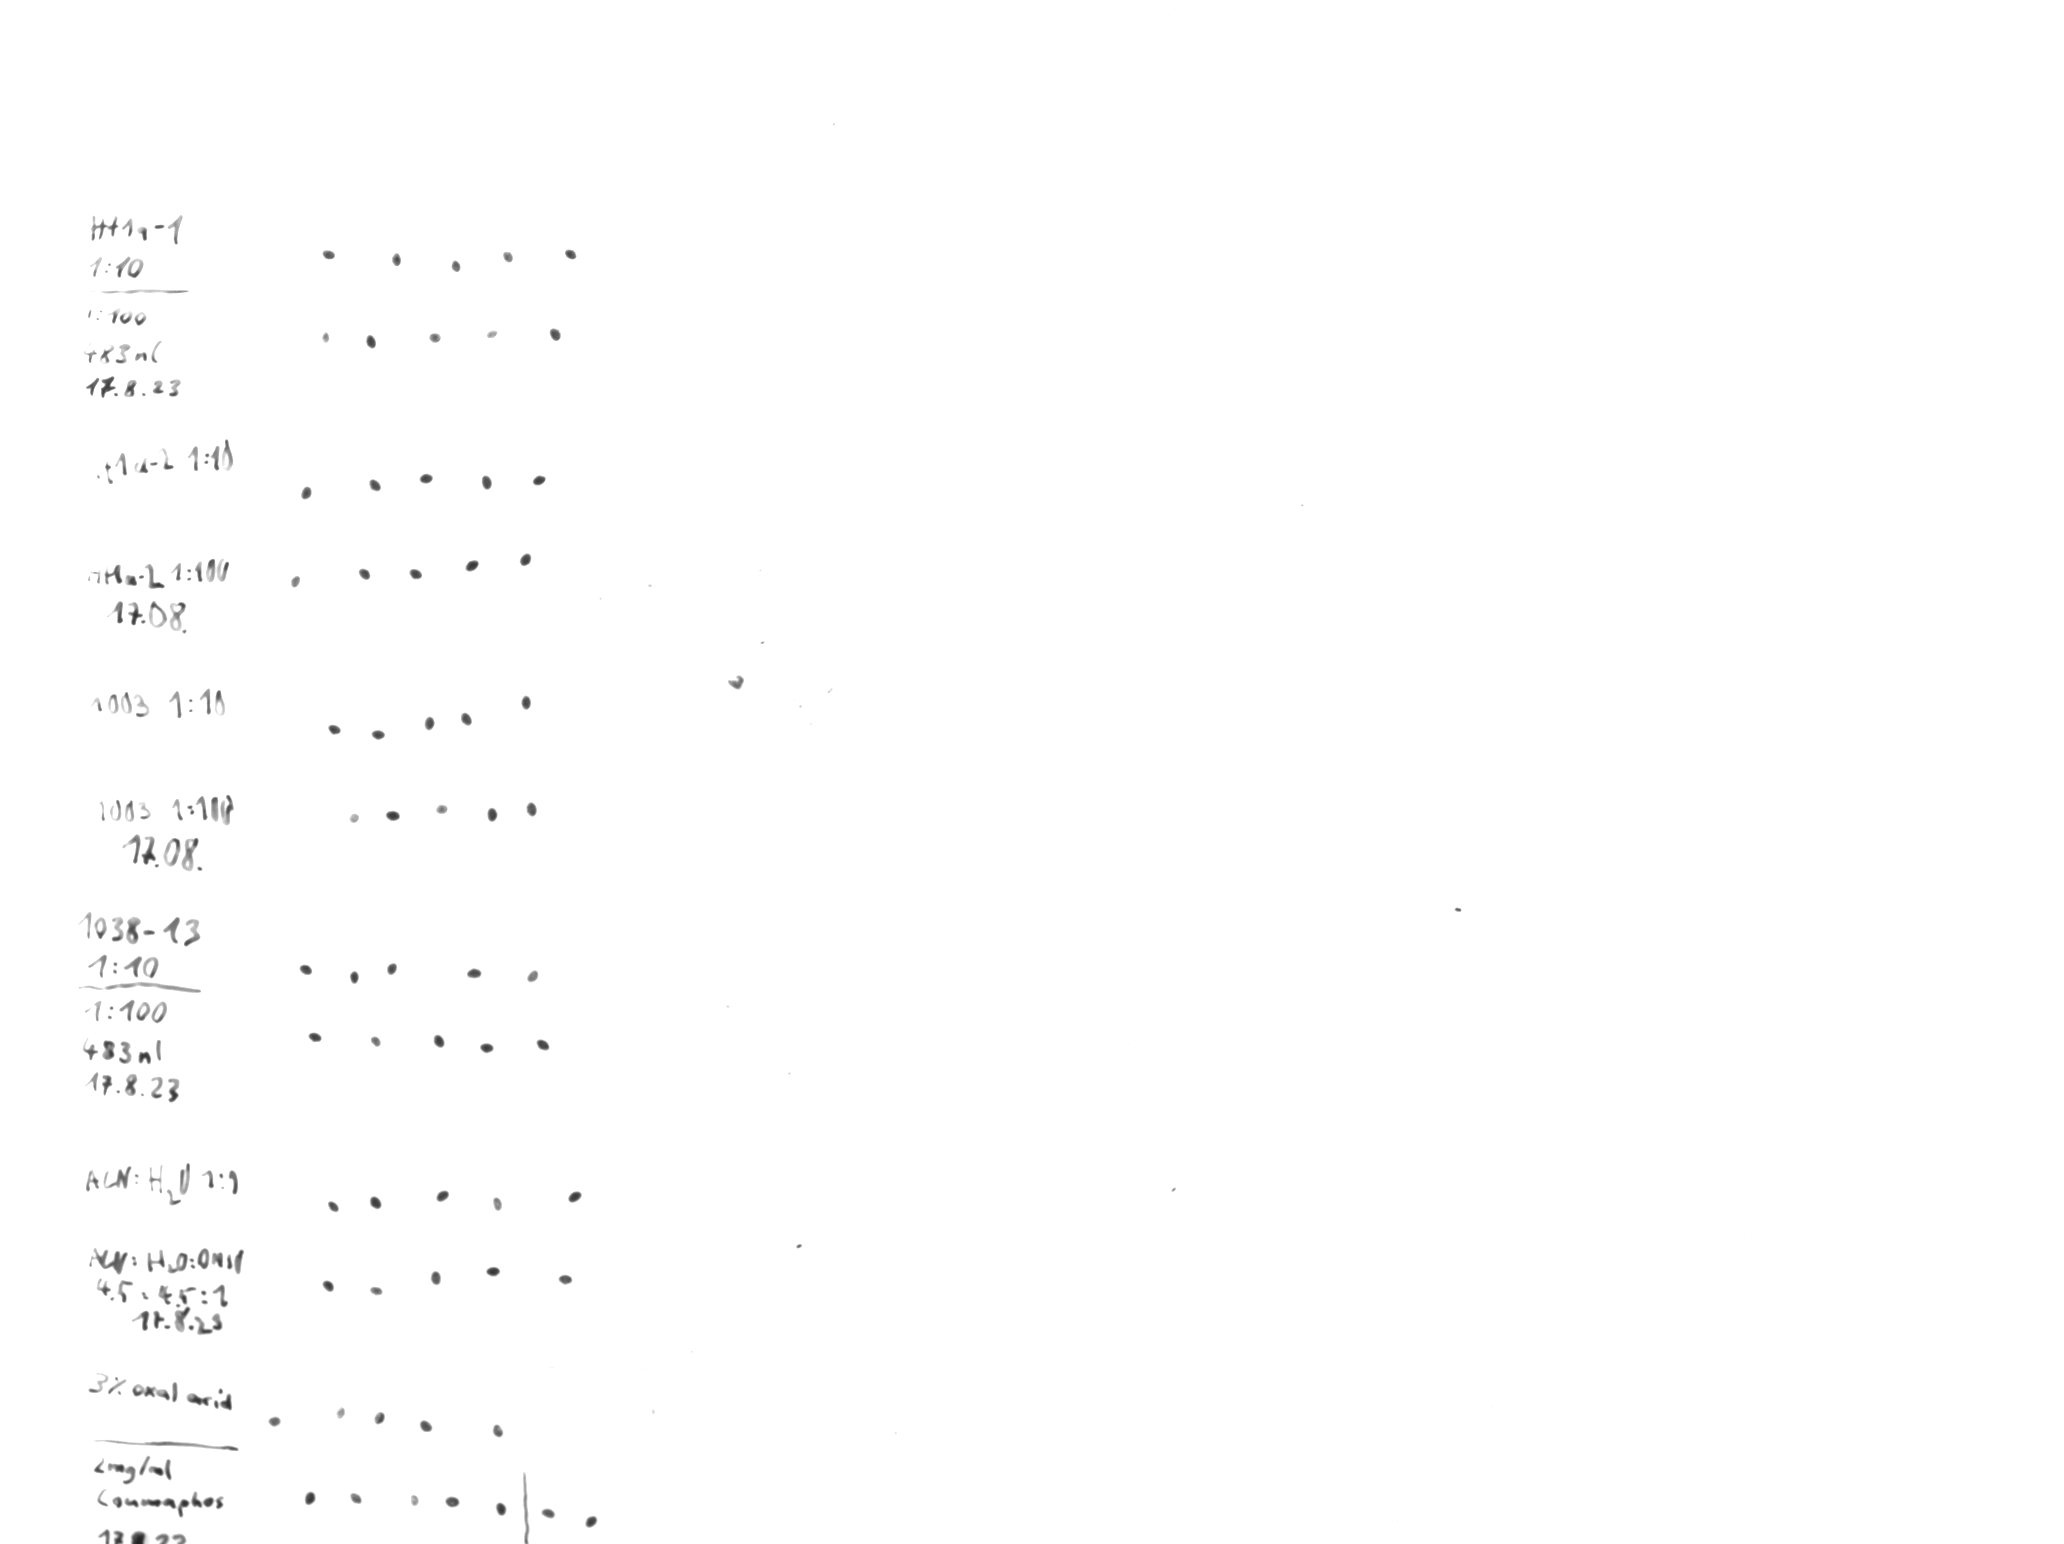varroa: (462, 558, 480, 573), (457, 712, 473, 727), (519, 550, 532, 568), (524, 800, 537, 817), (443, 1495, 460, 1508), (563, 247, 577, 261), (548, 326, 563, 341), (435, 1187, 449, 1202), (567, 1189, 582, 1203), (584, 1513, 598, 1528), (365, 332, 378, 349), (298, 483, 311, 500), (480, 474, 493, 490), (297, 963, 313, 976), (464, 967, 482, 978), (501, 250, 516, 263), (366, 478, 381, 491), (326, 722, 340, 735), (423, 715, 436, 730), (519, 694, 532, 709), (525, 968, 538, 983), (418, 1419, 433, 1432), (491, 1424, 504, 1439), (349, 1490, 362, 1505), (391, 251, 402, 268), (530, 474, 546, 485), (407, 568, 423, 579), (478, 1043, 495, 1054), (417, 474, 435, 483), (483, 1267, 501, 1276), (449, 259, 462, 272), (384, 962, 397, 975), (326, 1200, 339, 1213), (321, 1280, 334, 1293), (268, 1414, 280, 1427), (357, 569, 371, 581), (384, 809, 399, 821), (349, 971, 360, 986), (433, 1033, 444, 1048), (535, 1040, 550, 1051), (370, 1195, 381, 1210), (491, 1197, 503, 1212), (430, 1270, 441, 1285), (373, 1409, 384, 1424), (305, 1490, 316, 1505), (496, 1502, 507, 1516), (370, 730, 386, 740), (558, 1275, 574, 1285), (428, 332, 441, 344), (290, 576, 302, 589), (349, 811, 360, 824), (409, 1494, 420, 1507), (488, 804, 496, 822), (321, 250, 336, 259), (542, 1508, 556, 1518), (486, 329, 499, 339), (435, 804, 447, 814), (308, 1031, 321, 1041), (371, 1035, 381, 1048), (370, 1286, 383, 1296), (337, 1405, 344, 1419), (321, 331, 329, 342)
